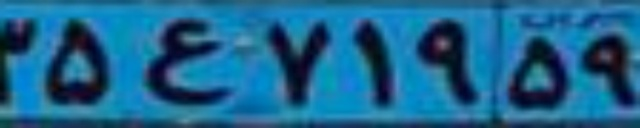1: (349, 18, 398, 107)
3: (0, 18, 35, 107)
5: (41, 17, 113, 106), (507, 36, 567, 109)
7: (264, 18, 332, 106)
9: (412, 17, 477, 106), (579, 33, 637, 109)
ain: (142, 17, 231, 105)
